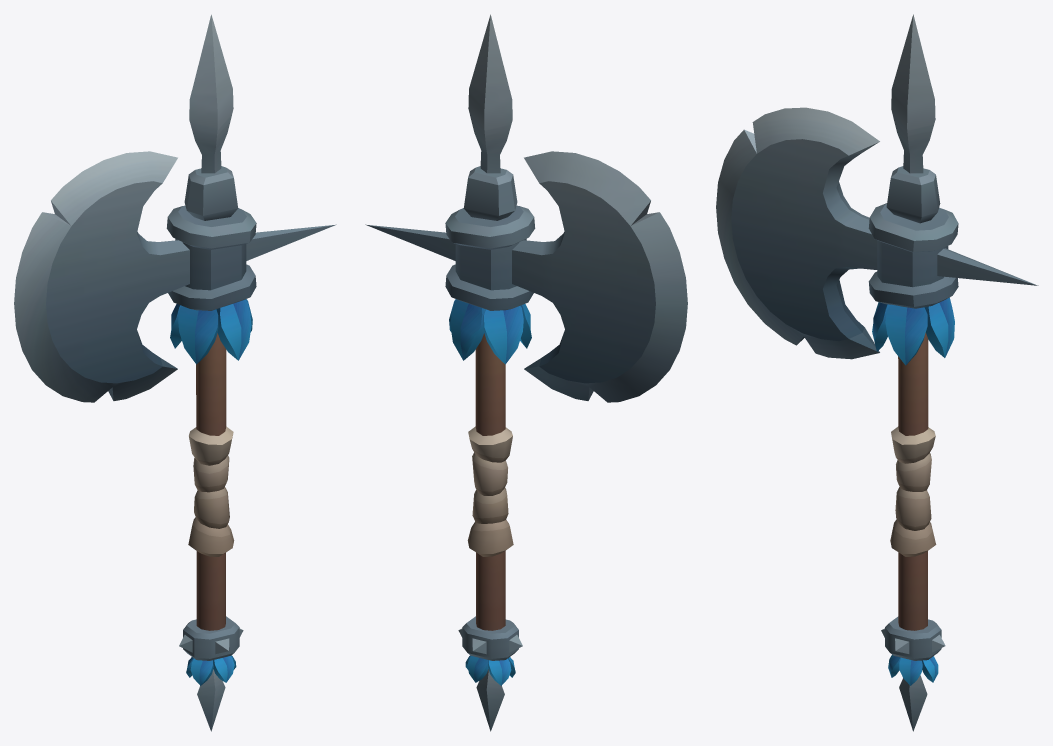
Rendered from halberd.c1aa0c2a.glb.
The picture shows the model from 3 angles, left to right: view 1: azimuth 30°, elevation 25°; view 2: azimuth 150°, elevation 25°; view 3: azimuth 330°, elevation 25°; orthographic projection.
Parts seen in each view (by area): view 1: halberd; view 2: halberd; view 3: halberd.
Boxes of the visible parts, x1,y1,x2,y2 form: halberd: (14,14,336,731); halberd: (365,14,687,731); halberd: (716,14,1038,731).
Size of the model in its own units: 1.29 by 2.75 by 0.291.
Materials: 1 (1 with a texture image).
